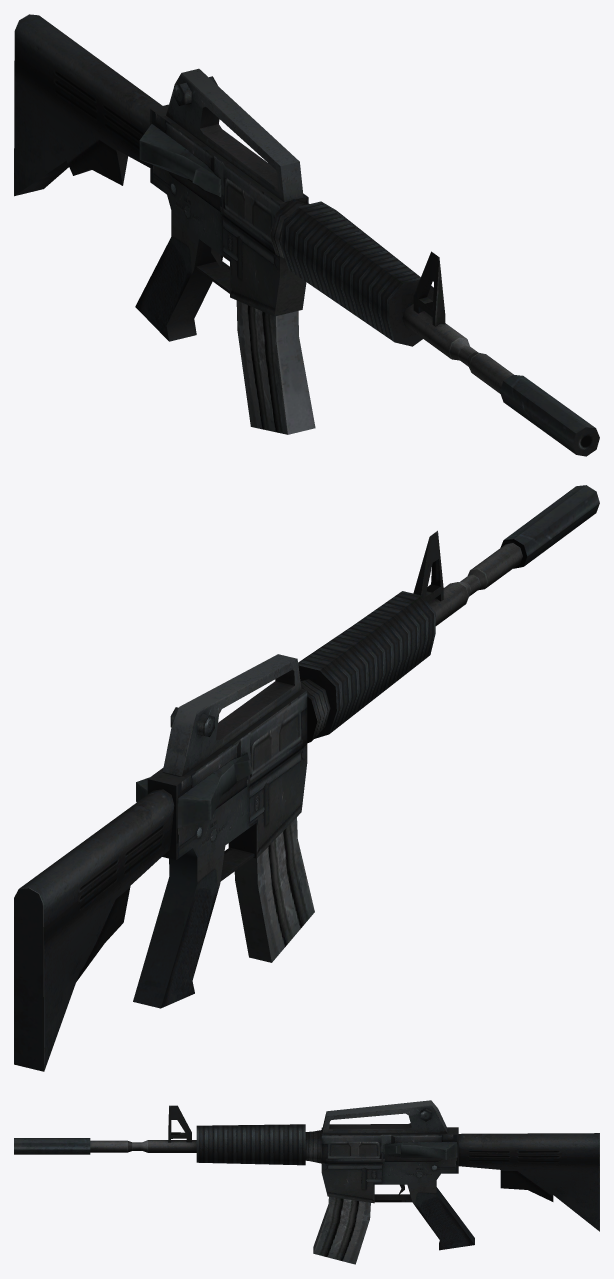
The picture shows the model from 3 angles, top to bottom: view 1: azimuth 30°, elevation 25°; view 2: azimuth 150°, elevation 25°; view 3: azimuth 270°, elevation 25°; orthographic projection. The views are drawn at different scales.
Visible parts, largest first — view 1: SMDImporter.Mesh.w_rif_m4a1_silencer, silencer; view 2: SMDImporter.Mesh.w_rif_m4a1_silencer, silencer; view 3: SMDImporter.Mesh.w_rif_m4a1_silencer, silencer.
Part boxes in pixels (x1,y1,x2,y2): SMDImporter.Mesh.w_rif_m4a1_silencer: (14,14,513,434); silencer: (500,374,599,456); SMDImporter.Mesh.w_rif_m4a1_silencer: (14,530,522,1071); silencer: (500,485,599,568); SMDImporter.Mesh.w_rif_m4a1_silencer: (90,1100,599,1264); silencer: (14,1138,90,1154).
Bounding box in the file's own units: 8.01 × 31.07 × 104.
